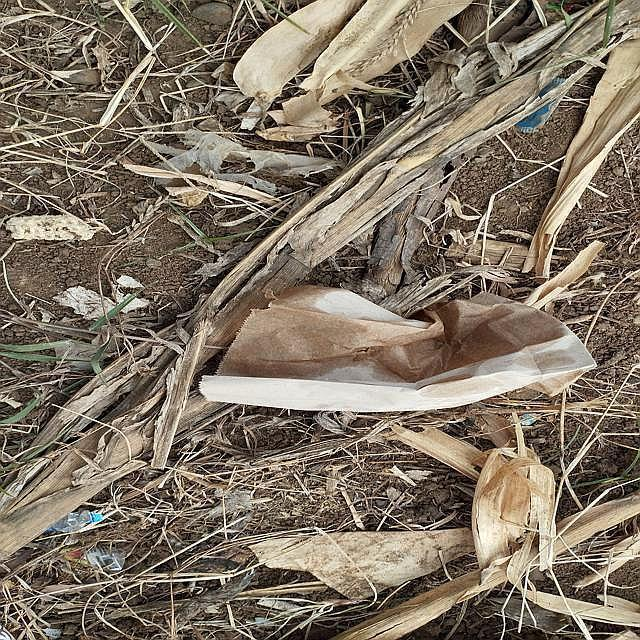Biodegradable: (201, 285, 595, 412)
